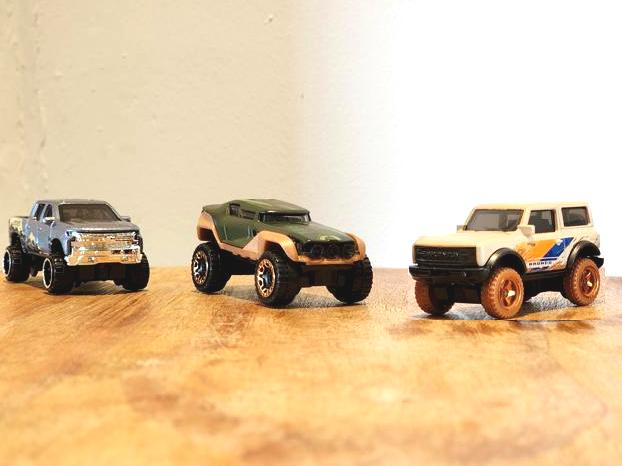toy-car: (407, 202, 604, 321), (191, 199, 373, 309), (2, 199, 150, 294)
